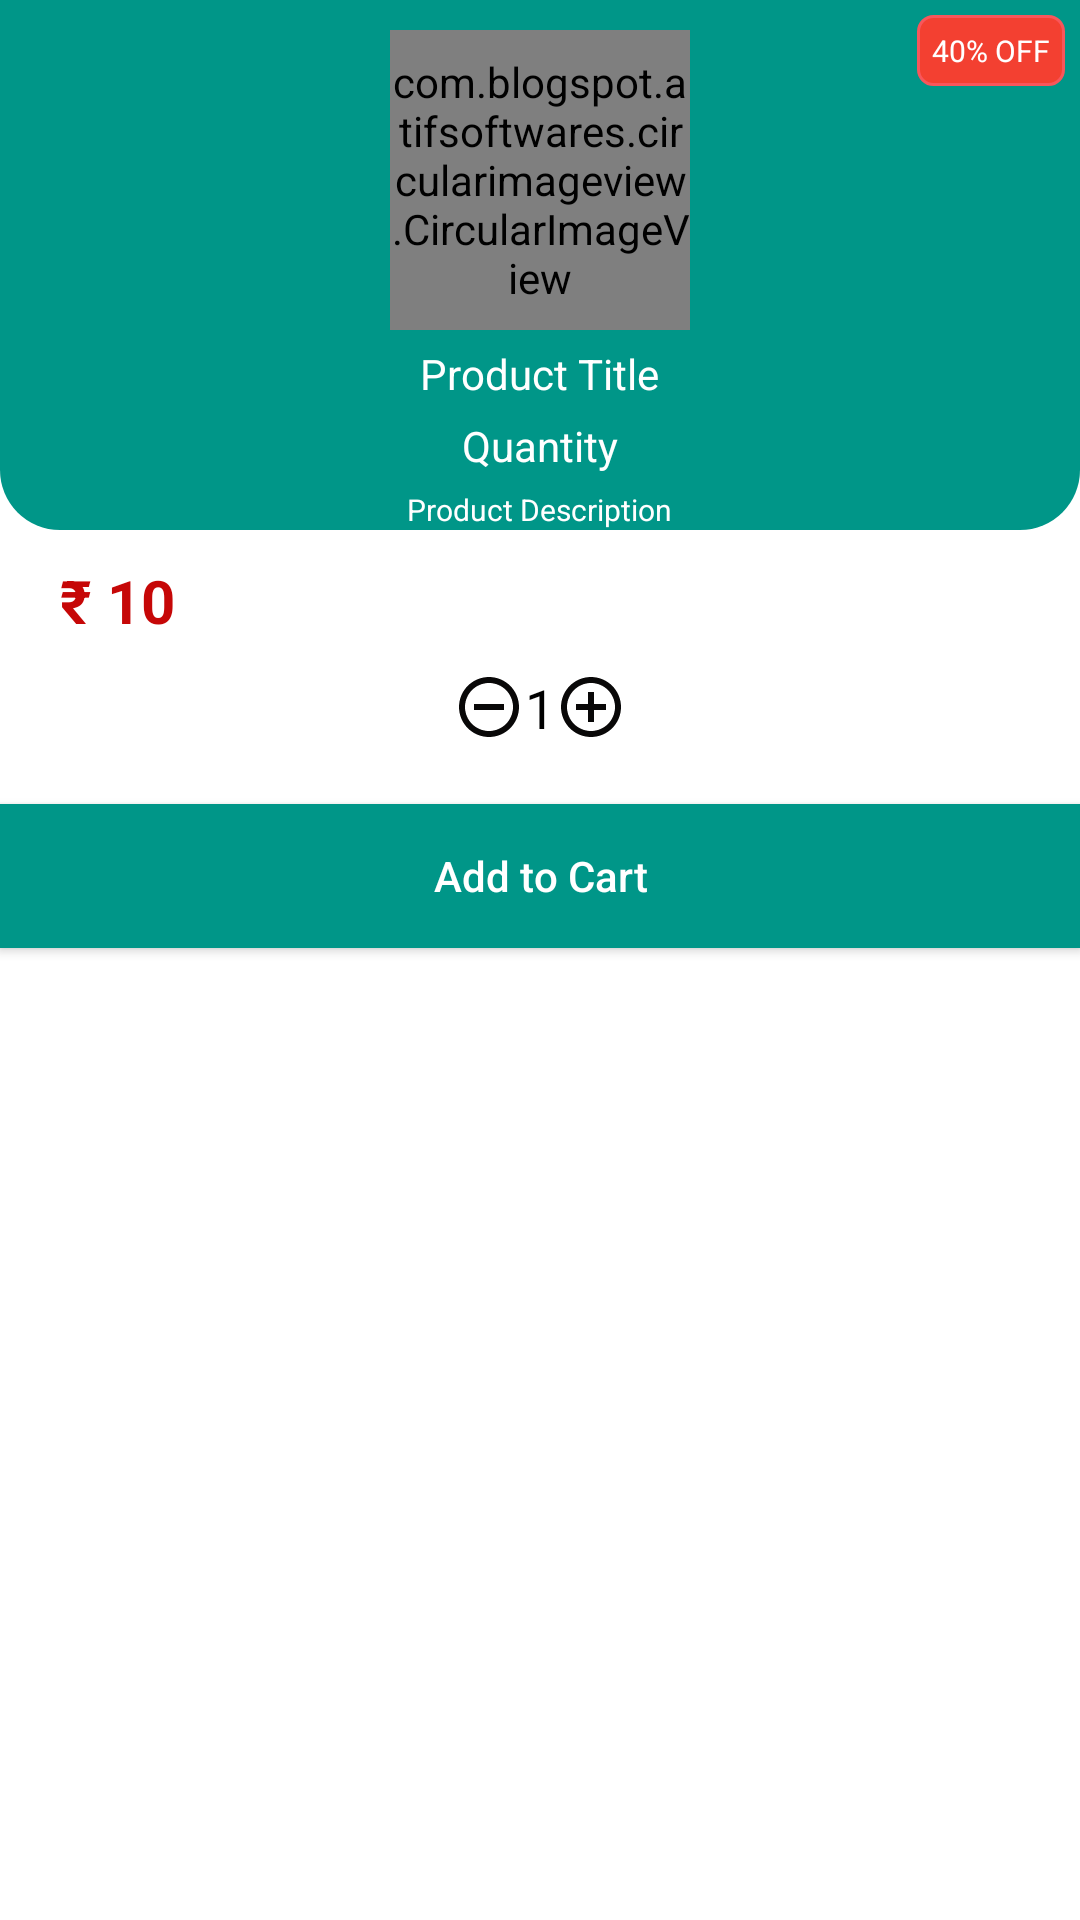

Screen size 1080×1920. Icon name, then its box in pixels as [left=x1, top=y1, right=x2, bottom=y2]:
remove: [left=459, top=677, right=519, bottom=737]
